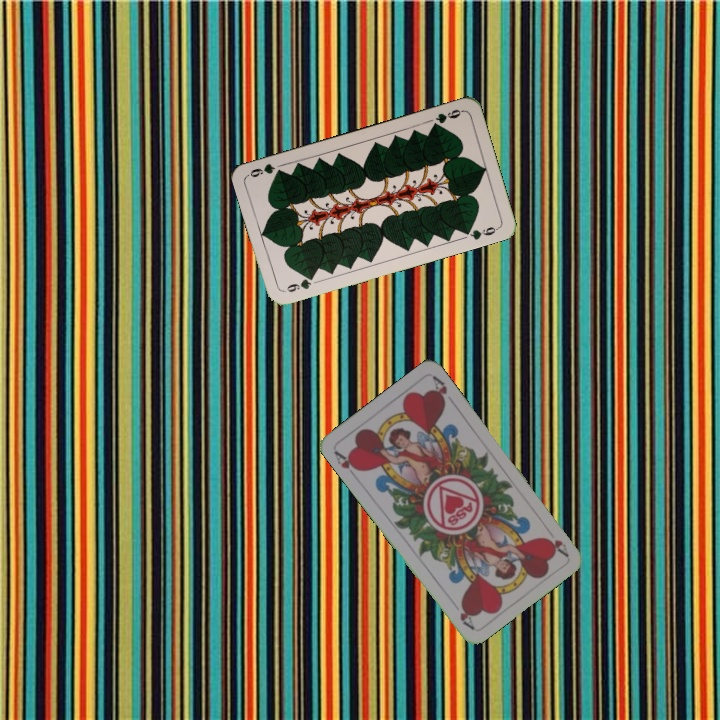G9: (428, 105, 466, 131), (280, 272, 317, 295)
HA: (330, 446, 364, 481), (541, 534, 571, 559)
